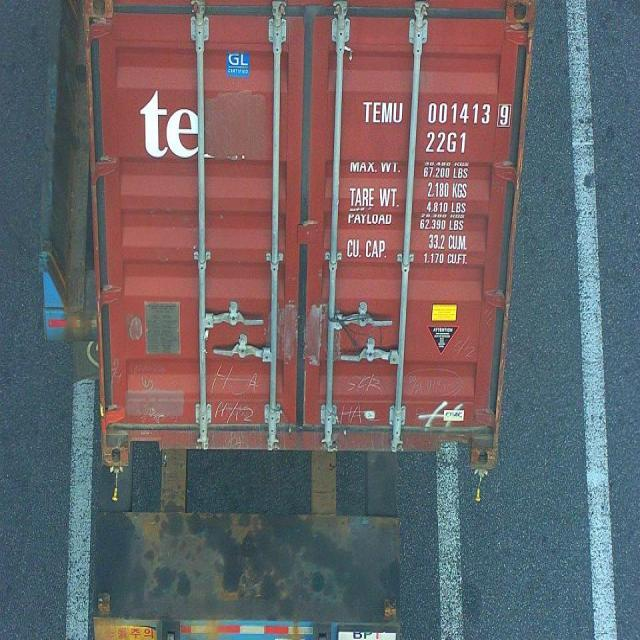ISO: (424, 132, 468, 154)
container_number: (362, 102, 512, 126)
